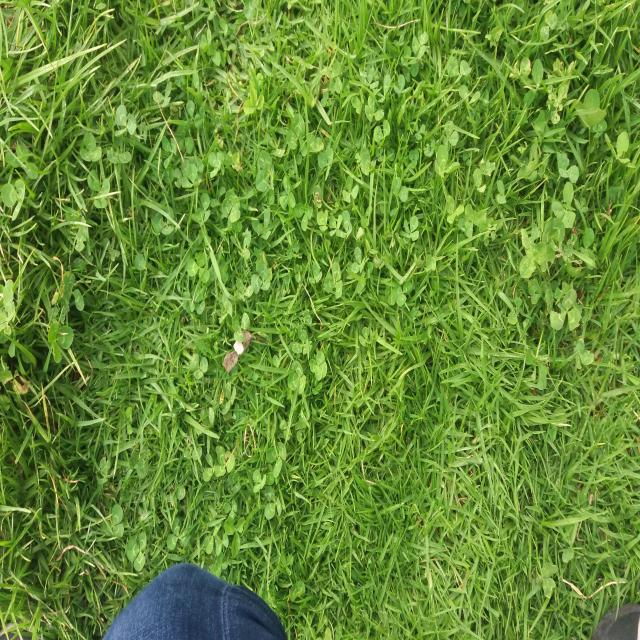Four Leaf Clover: (222, 189, 240, 223), (309, 351, 327, 380)
